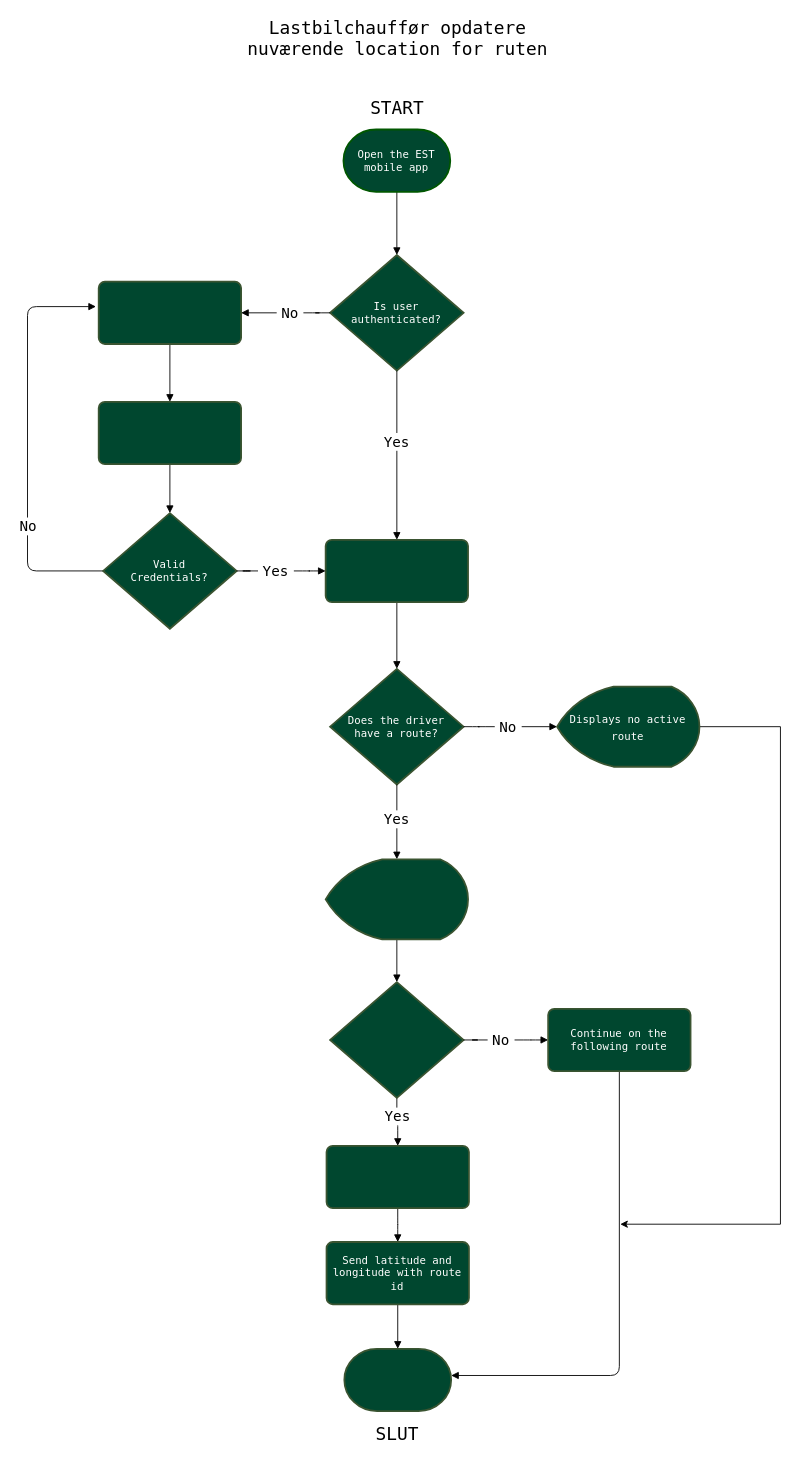
Some shapes in this 804 by 1461 pixel diagram are drawn without their labels. The centre of each missing label's shape, as x and y in pixels:
"Authenticate via IdentityMS" belongs at pixel 169 432.
"Displays data of the current route" belongs at pixel 396 899.
"DONE" belongs at pixel 397 1379.
"Driver has to take a break?" belongs at pixel 396 1039.
"Driver take a break" belongs at pixel 397 1177.
"Redirect to current route page" belongs at pixel 396 570.
"Redirect to login page" belongs at pixel 169 312.
